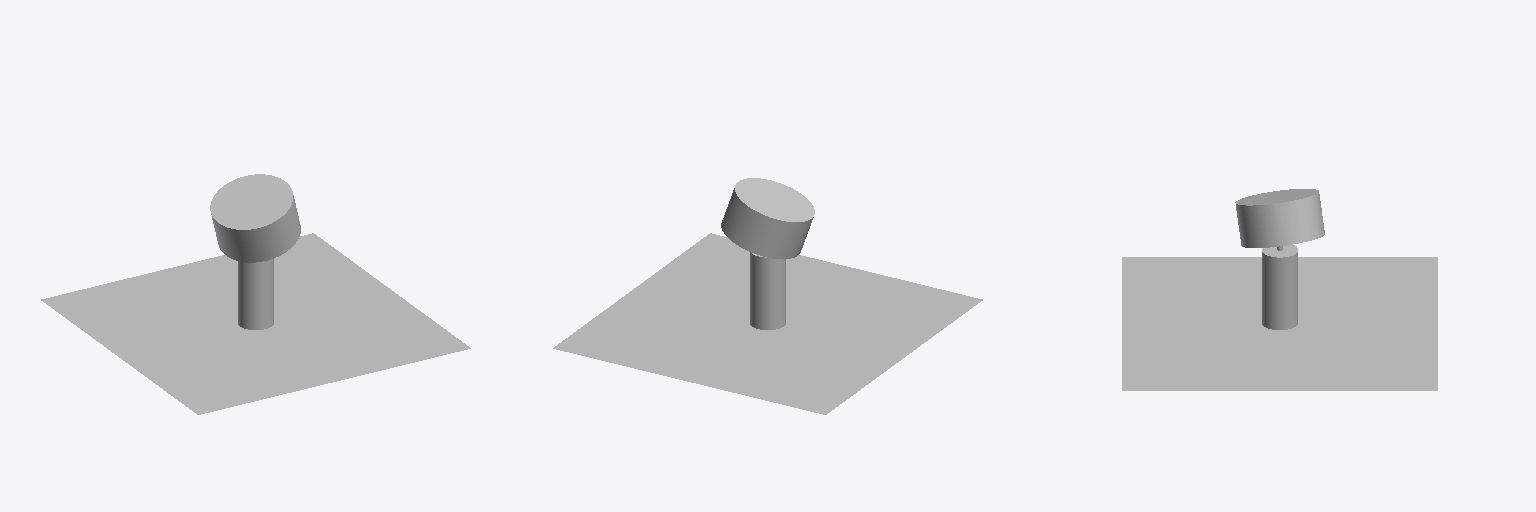
Rendered from lamp9.obj.
The picture shows the model from 3 angles: view 1: azimuth 30°, elevation 25°; view 2: azimuth 150°, elevation 25°; view 3: azimuth 270°, elevation 25°; orthographic projection.
Parts seen in each view (by area): view 1: Plane, Cylinder.002, Cylinder; view 2: Plane, Cylinder.002, Cylinder; view 3: Plane, Cylinder.002, Cylinder, Cylinder.001.
Boxes of the visible parts, x1=… form: Plane: x1=41, y1=233, x2=470, y2=414; Cylinder.002: x1=210, y1=174, x2=300, y2=262; Cylinder: x1=238, y1=259, x2=273, y2=329; Plane: x1=553, y1=233, x2=982, y2=414; Cylinder.002: x1=721, y1=178, x2=814, y2=258; Cylinder: x1=750, y1=259, x2=785, y2=329; Plane: x1=1122, y1=257, x2=1437, y2=390; Cylinder.002: x1=1235, y1=189, x2=1324, y2=247; Cylinder: x1=1262, y1=259, x2=1297, y2=329; Cylinder.001: x1=1262, y1=245, x2=1297, y2=264.
Size of the model in its own units: 17.18 by 8.19 by 17.18.